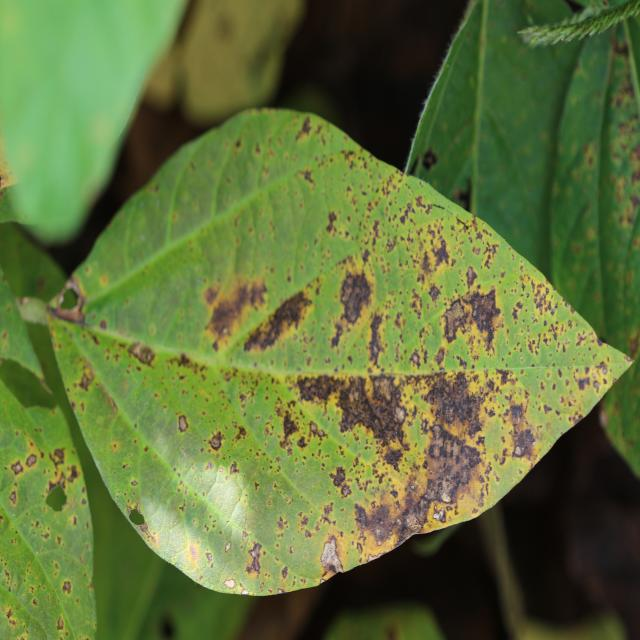Bacterial_Blight: (327, 374, 401, 447), (243, 285, 315, 353), (438, 281, 503, 355), (201, 275, 265, 347), (429, 372, 487, 441), (330, 257, 380, 325), (355, 494, 404, 550), (441, 298, 469, 342), (367, 312, 387, 364), (513, 426, 537, 459), (531, 282, 554, 315), (244, 541, 264, 577), (280, 408, 301, 442), (430, 238, 453, 269), (128, 340, 154, 366), (75, 362, 95, 393), (330, 465, 347, 488), (296, 116, 313, 139), (574, 374, 592, 393), (207, 430, 224, 450), (308, 420, 325, 440), (509, 403, 524, 425), (428, 283, 442, 305), (465, 265, 478, 288), (325, 210, 338, 232), (409, 349, 422, 368), (177, 414, 189, 433), (322, 504, 334, 523), (302, 168, 315, 185), (340, 483, 352, 498), (229, 460, 240, 475), (277, 516, 287, 531)
Soybean: (46, 110, 632, 595)
